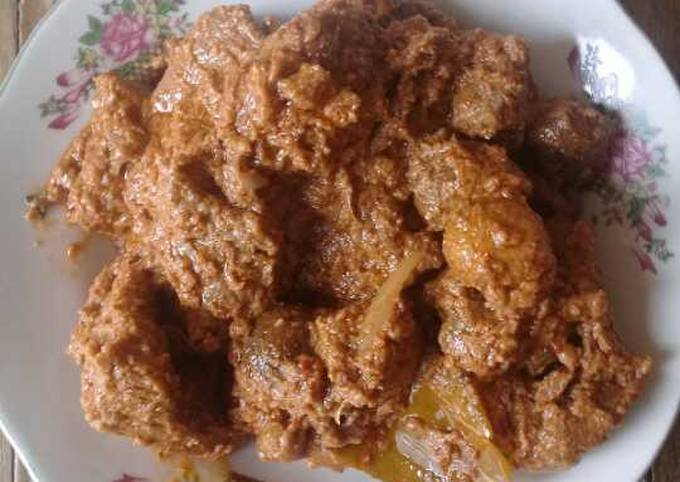rendang: (28, 3, 680, 458)
